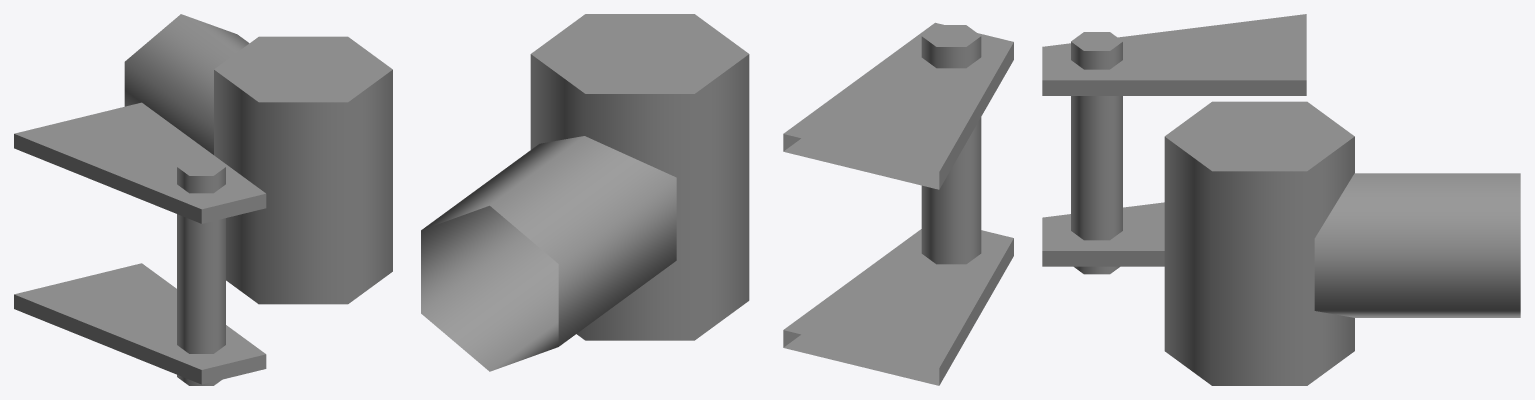
The model's file is lock.fbx.
3 renders of one model, left to right at view 1: azimuth 30°, elevation 25°; view 2: azimuth 150°, elevation 25°; view 3: azimuth 270°, elevation 25°, orthographic. The views are drawn at different scales.
Visible parts, largest first — view 1: os2, os1; view 2: os2, os1; view 3: os2, os1.
Part boxes in pixels (x1,y1,x2,y2): os2: [124, 14, 392, 304]; os1: [14, 102, 266, 385]; os2: [421, 14, 749, 371]; os1: [783, 22, 1013, 385]; os2: [1164, 101, 1520, 385]; os1: [1042, 14, 1306, 274].
Size of the model in its own units: 3.38 by 2.9 by 1.74.
